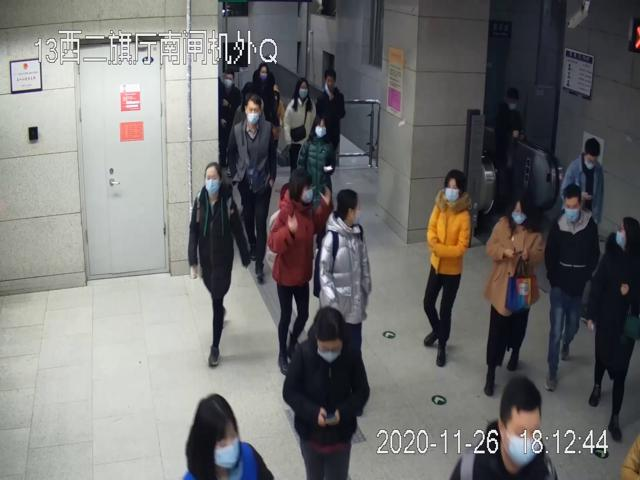person: (282, 305, 371, 480), (188, 162, 252, 368), (483, 190, 545, 390), (267, 170, 325, 372), (546, 183, 601, 388), (423, 166, 471, 366), (226, 94, 276, 281), (320, 187, 371, 355), (297, 115, 337, 209), (283, 77, 317, 167), (316, 68, 345, 158)
